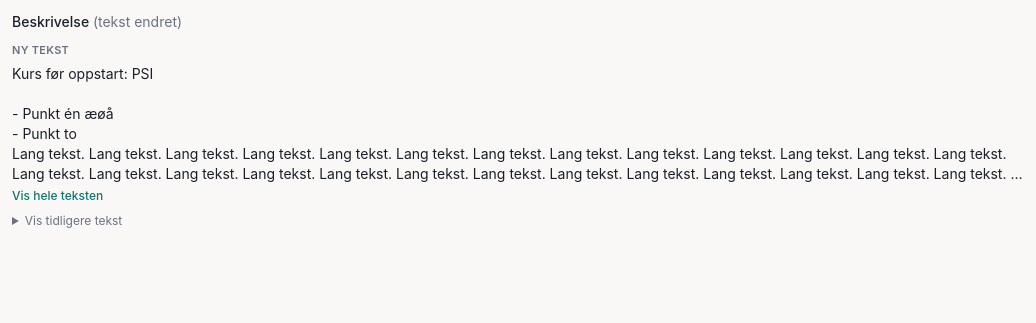
Scenario: CriticalChangeRow › shows new long text once, clamped, with preserved newlines
Click the button "Vis hele teksten" at (58, 196), box [12,188,103,204]
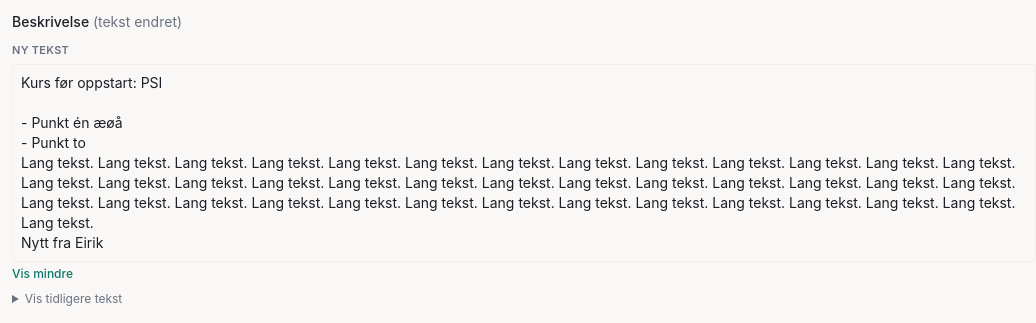
Check: the text with test id "change-value-Ny tekst" has class "overflow-y-auto"
